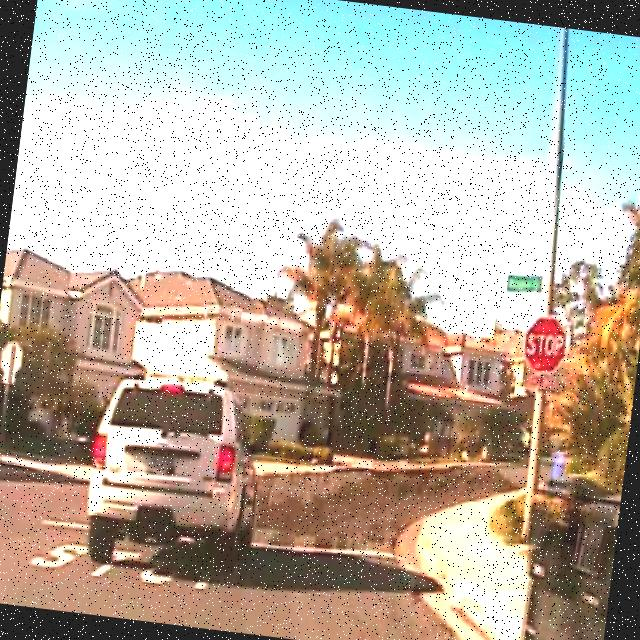Stop: (519, 313, 570, 376)
